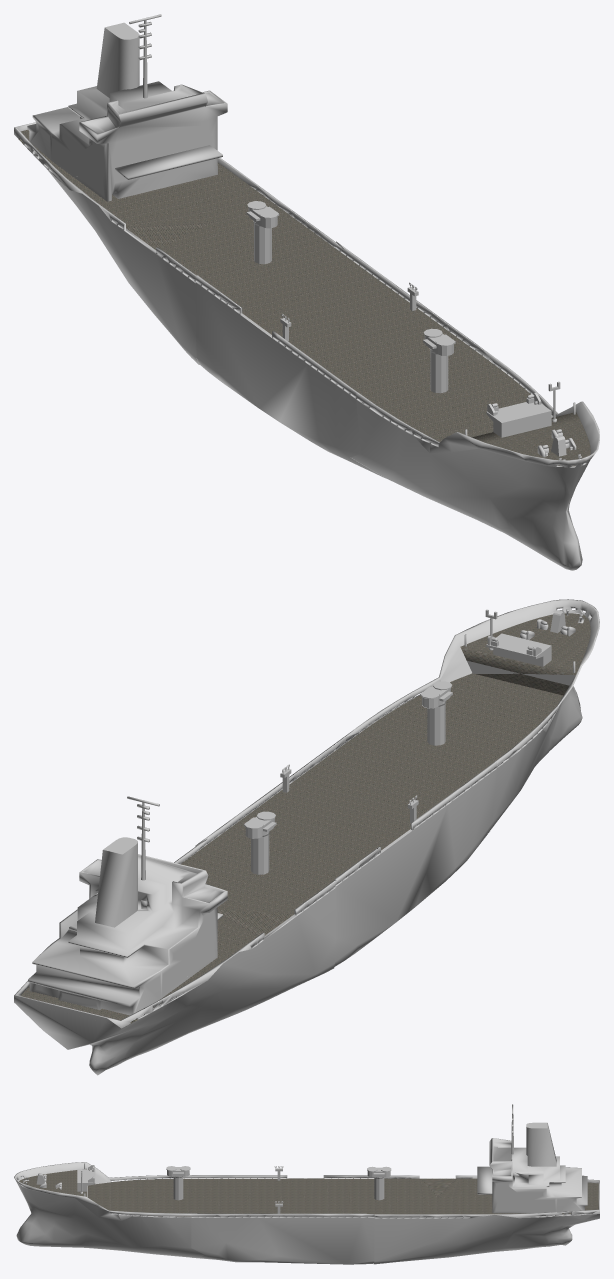
File: Cargo Ship.dae
The picture shows the model from 3 angles, top to bottom: view 1: azimuth 30°, elevation 25°; view 2: azimuth 150°, elevation 25°; view 3: azimuth 270°, elevation 25°; orthographic projection. The views are drawn at different scales.
Parts seen in each view (by area): view 1: Hull, Floor, Bridge, Misc, Smoke; view 2: Floor, Hull, Bridge, Misc, Smoke; view 3: Hull, Floor, Bridge, Misc, Smoke.
Boxes of the visible parts, bbox=[...] form: Hull: bbox=[14, 122, 599, 570]; Floor: bbox=[18, 129, 590, 466]; Bridge: bbox=[27, 14, 227, 201]; Misc: bbox=[246, 201, 566, 456]; Smoke: bbox=[96, 28, 139, 97]; Floor: bbox=[21, 613, 590, 1024]; Hull: bbox=[14, 599, 599, 1075]; Bridge: bbox=[28, 796, 227, 1015]; Misc: bbox=[244, 609, 565, 874]; Smoke: bbox=[95, 842, 137, 927]; Hull: bbox=[14, 1162, 599, 1264]; Floor: bbox=[19, 1169, 598, 1216]; Bridge: bbox=[477, 1104, 587, 1214]; Misc: bbox=[36, 1165, 391, 1213]; Smoke: bbox=[526, 1123, 556, 1166].
Size of the model in its own units: 34.74 by 57.37 by 220.
